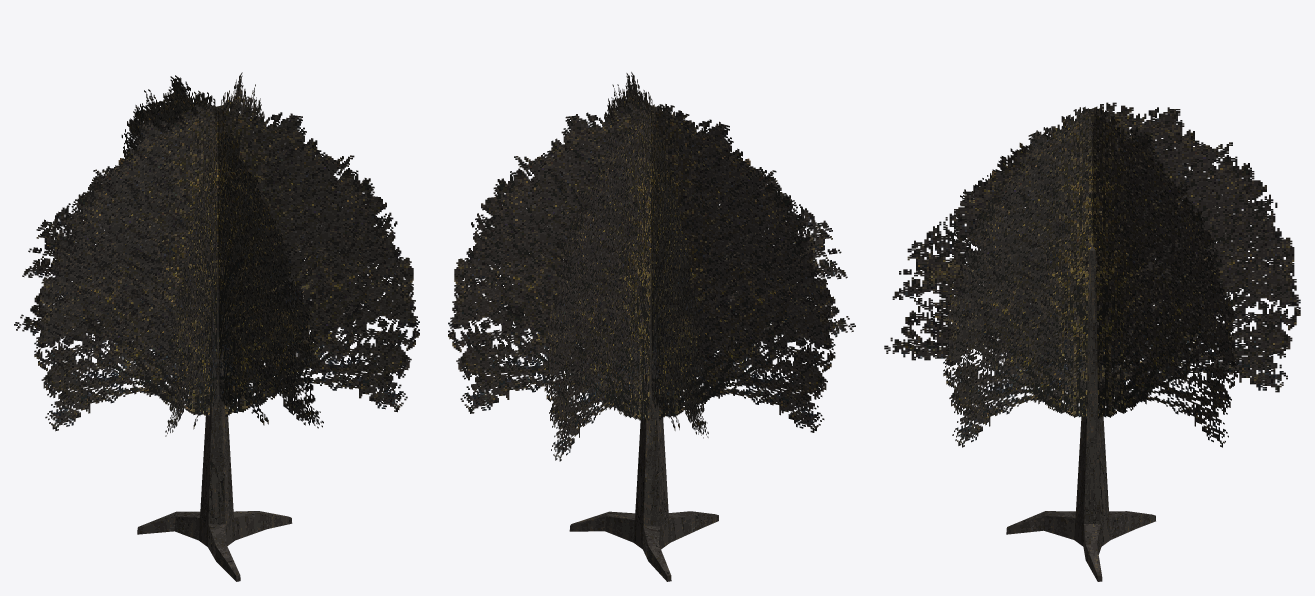
File: tree03_winter.glb
The picture shows the model from 3 angles, left to right: view 1: azimuth 30°, elevation 25°; view 2: azimuth 150°, elevation 25°; view 3: azimuth 270°, elevation 25°; orthographic projection.
Parts seen in each view (by area): view 1: tree03; view 2: tree03; view 3: tree03.
Part boxes in pixels (x1=…): tree03: x1=14, y1=72, x2=419, y2=581; tree03: x1=448, y1=72, x2=855, y2=581; tree03: x1=884, y1=102, x2=1300, y2=581.
Bounding box in the file's own units: 6.72 × 7.87 × 6.72.
1 material, 1 textured.
